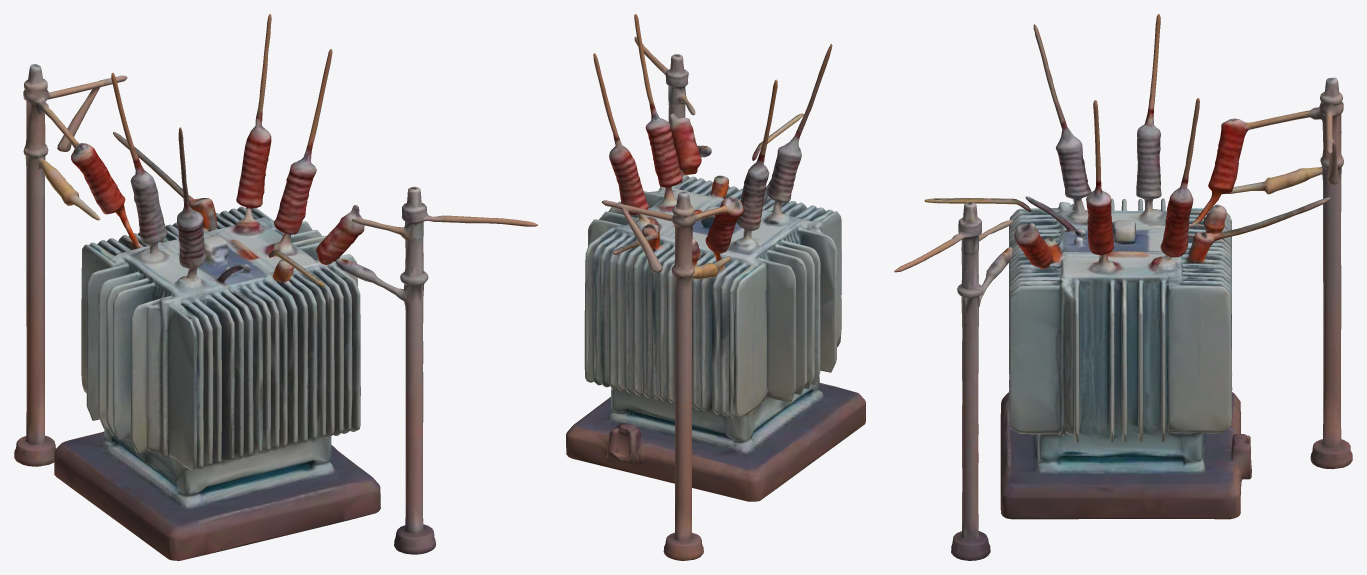
File: power_grid_substation.glb
3 views of the same model, side by side, from view 1: azimuth 30°, elevation 25°; view 2: azimuth 150°, elevation 25°; view 3: azimuth 270°, elevation 25° (orthographic). The views are drawn at different scales.
Parts seen in each view (by area): view 1: tripo_node_4a72bbce-2aa7-4bf4-83ac-f16bf097d63c; view 2: tripo_node_4a72bbce-2aa7-4bf4-83ac-f16bf097d63c; view 3: tripo_node_4a72bbce-2aa7-4bf4-83ac-f16bf097d63c.
Part boxes in pixels (box(x1,y1,x2,y2)): tripo_node_4a72bbce-2aa7-4bf4-83ac-f16bf097d63c: box(14, 14, 537, 560); tripo_node_4a72bbce-2aa7-4bf4-83ac-f16bf097d63c: box(566, 14, 865, 560); tripo_node_4a72bbce-2aa7-4bf4-83ac-f16bf097d63c: box(894, 14, 1352, 560).
Bounding box in the file's own units: 0.6819 × 0.9478 × 0.8875.
1 material, 1 textured.
